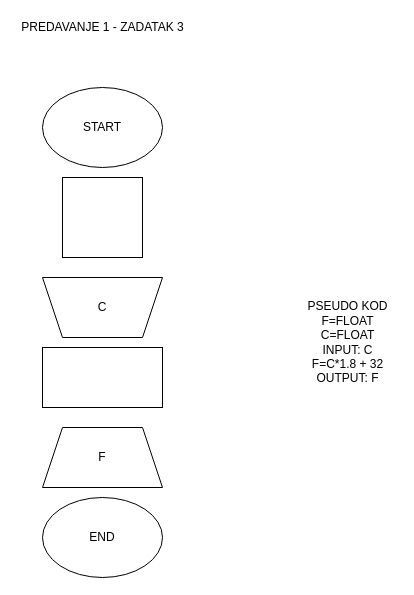
This 414x595 diagram has some shape labels left out. The shapes that lost their labels are listed below. From the top down, each one's centre as x and y in pixels, then its label:
(102,217): F=FLOAT C=FLOAT
(102,377): F=C*1.8 + 32
